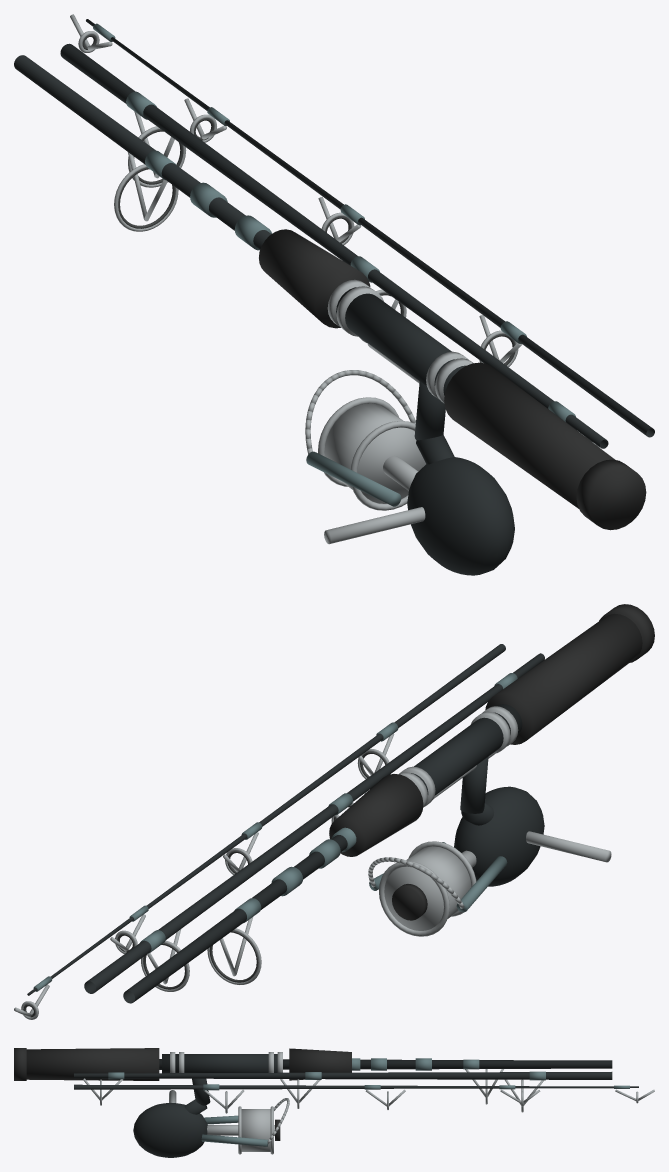
Rendered from reed_folded.glb.
3 renders of one model, top to bottom at view 1: azimuth 30°, elevation 25°; view 2: azimuth 150°, elevation 25°; view 3: azimuth 270°, elevation 25°, orthographic. The views are drawn at different scales.
Visible parts, largest first — view 1: Folded rod; view 2: Folded rod; view 3: Folded rod.
Boxes of the visible parts, bbox=[...] form: Folded rod: bbox=[14, 14, 654, 575]; Folded rod: bbox=[14, 604, 654, 1019]; Folded rod: bbox=[14, 1048, 654, 1157].
Size of the model in its own units: 0.1577 by 0.1315 by 0.7147.
